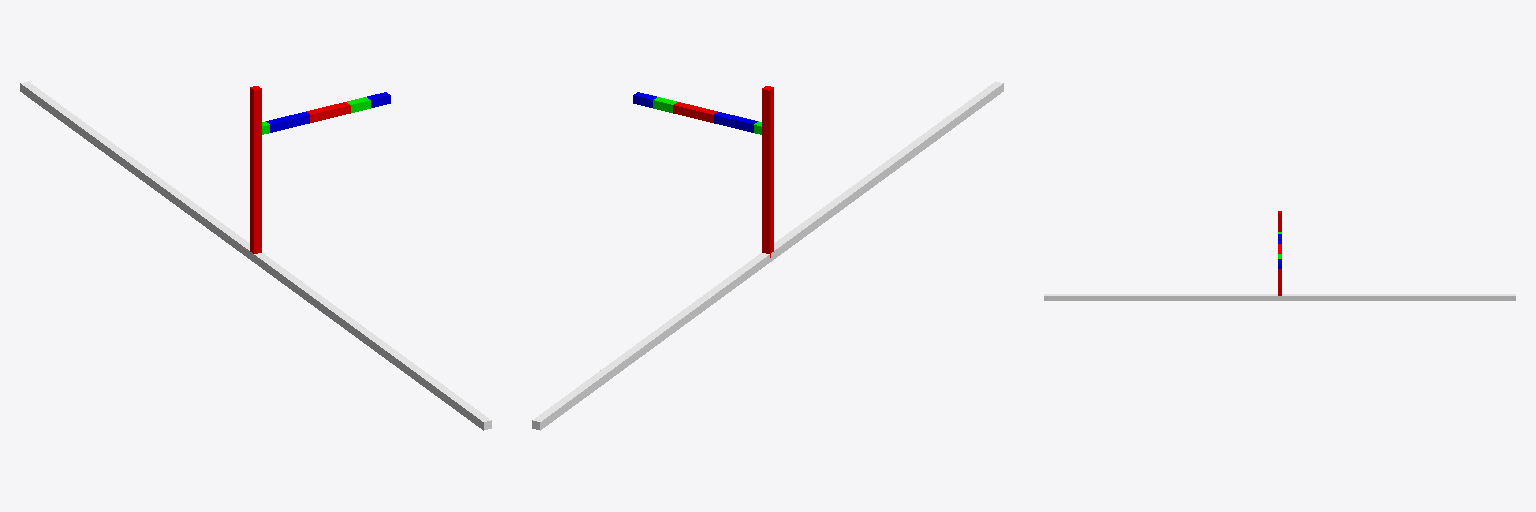
robot.urdf — arcsys2:
<?xml version="1.0" ?>
<!-- =================================================================================== -->
<!-- |    This document was autogenerated by xacro from urdf/arcsys2.xacro             | -->
<!-- |    EDITING THIS FILE BY HAND IS NOT RECOMMENDED                                 | -->
<!-- =================================================================================== -->
<robot name="arcsys2" xmlns:xacro="http://ros.org/wiki/xacro">
  <material name="white">
    <color rgba="1.0 1.0 1.0 1.0"/>
  </material>
  <material name="red">
    <color rgba="1.0 0.0 0.0 1.0"/>
  </material>
  <material name="green">
    <color rgba="0.0 1.0 0.0 1.0"/>
  </material>
  <material name="blue">
    <color rgba="0.0 0.0 1.0 1.0"/>
  </material>
  <!-- Property -->
  <!-- LINK and JOINT -->
  <link name="rail">
    <origin xyz="0 0 0"/>
    <visual>
      <geometry>
        <box size="0.1 10.0 0.1"/>
      </geometry>
      <material name="white"/>
    </visual>
    <collision>
      <geometry>
        <box size="0.1 10.0 0.1"/>
      </geometry>
    </collision>
  </link>
  <joint name="rail_to_shaft_joint" type="prismatic">
    <origin xyz="0 0 1.0"/>
    <parent link="rail"/>
    <child link="shaft"/>
    <axis xyz="0 1 0"/>
    <limit effort="1" lower="-5.0" upper="5.0" velocity="1"/>
  </joint>
  <transmission name="rail_to_shaft_transmission">
    <type>transmission_interface/SimpleTransmission</type>
    <actuator name="rail_to_shaft_actuator">
      <mechanicalReduction>1.0</mechanicalReduction>
      <hardwareInterface>hardware_interface/PositionJointInterface</hardwareInterface>
    </actuator>
    <joint name="rail_to_shaft_joint">
      <hardwareInterface>hardware_interface/PositionJointInterface</hardwareInterface>
    </joint>
  </transmission>
  <link name="shaft">
    <origin xyz="0 0 0"/>
    <visual>
      <geometry>
        <box size="0.1 0.1 2.0"/>
      </geometry>
      <material name="red"/>
    </visual>
    <collision>
      <geometry>
        <box size="0.1 0.1 2.0"/>
      </geometry>
    </collision>
  </link>
  <joint name="shaft_to_arm0_joint" type="prismatic">
    <origin xyz="0.05 0 0.5"/>
    <parent link="shaft"/>
    <child link="arm0"/>
    <axis xyz="0 0 1"/>
    <limit effort="1" lower="-0.5" upper="0.5" velocity="1"/>
  </joint>
  <transmission name="shaft_to_arm0_transmission">
    <type>transmission_interface/SimpleTransmission</type>
    <actuator name="shaft_to_arm0_actuator">
      <mechanicalReduction>1.0</mechanicalReduction>
      <hardwareInterface>hardware_interface/PositionJointInterface</hardwareInterface>
    </actuator>
    <joint name="shaft_to_arm0_joint">
      <hardwareInterface>hardware_interface/PositionJointInterface</hardwareInterface>
    </joint>
  </transmission>
  <link name="arm0">
    <visual>
      <origin xyz="0.05 0 0"/>
      <geometry>
        <box size="0.1 0.1 0.1"/>
      </geometry>
      <material name="green"/>
    </visual>
    <collision>
      <geometry>
        <box size="0.1 0.1 0.1"/>
      </geometry>
    </collision>
  </link>
  <joint name="arm0_to_arm1_joint" type="revolute">
    <origin xyz="0.1 0 0"/>
    <parent link="arm0"/>
    <child link="arm1"/>
    <axis xyz="0 0 1"/>
    <limit effort="1" lower="-1.57079632679" upper="1.57079632679" velocity="1"/>
  </joint>
  <transmission name="arm0_to_arm1_transmission">
    <type>transmission_interface/SimpleTransmission</type>
    <actuator name="arm0_to_arm1_actuator">
      <mechanicalReduction>1.0</mechanicalReduction>
      <hardwareInterface>hardware_interface/PositionJointInterface</hardwareInterface>
    </actuator>
    <joint name="arm0_to_arm1_joint">
      <hardwareInterface>hardware_interface/PositionJointInterface</hardwareInterface>
    </joint>
  </transmission>
  <link name="arm1">
    <visual>
      <origin xyz="0.25 0 0"/>
      <geometry>
        <box size="0.5 0.1 0.1"/>
      </geometry>
      <material name="blue"/>
    </visual>
    <collision>
      <geometry>
        <box size="0.5 0.1 0.1"/>
      </geometry>
    </collision>
  </link>
  <joint name="arm1_to_arm2_joint" type="revolute">
    <origin xyz="0.5 0 0"/>
    <parent link="arm1"/>
    <child link="arm2"/>
    <axis xyz="0 0 1"/>
    <limit effort="1" lower="-1.57079632679" upper="1.57079632679" velocity="1"/>
  </joint>
  <transmission name="arm1_to_arm2_transmission">
    <type>transmission_interface/SimpleTransmission</type>
    <actuator name="arm1_to_arm2_actuator">
      <mechanicalReduction>1.0</mechanicalReduction>
      <hardwareInterface>hardware_interface/PositionJointInterface</hardwareInterface>
    </actuator>
    <joint name="arm1_to_arm2_joint">
      <hardwareInterface>hardware_interface/PositionJointInterface</hardwareInterface>
    </joint>
  </transmission>
  <link name="arm2">
    <visual>
      <origin xyz="0.25 0 0"/>
      <geometry>
        <box size="0.5 0.1 0.1"/>
      </geometry>
      <material name="red"/>
    </visual>
    <collision>
      <geometry>
        <box size="0.5 0.1 0.1"/>
      </geometry>
    </collision>
  </link>
  <joint name="arm2_to_effector_base_joint" type="revolute">
    <origin xyz="0.5 0 0"/>
    <parent link="arm2"/>
    <child link="effector_base"/>
    <axis xyz="0 0 1"/>
    <limit effort="1" lower="-1.57079632679" upper="1.57079632679" velocity="1"/>
  </joint>
  <transmission name="arm2_to_effector_base_transmission">
    <type>transmission_interface/SimpleTransmission</type>
    <actuator name="arm2_to_effector_base_actuator">
      <mechanicalReduction>1.0</mechanicalReduction>
      <hardwareInterface>hardware_interface/PositionJointInterface</hardwareInterface>
    </actuator>
    <joint name="arm2_to_effector_base_joint">
      <hardwareInterface>hardware_interface/PositionJointInterface</hardwareInterface>
    </joint>
  </transmission>
  <link name="effector_base">
    <visual>
      <origin xyz="0.125 0 0"/>
      <geometry>
        <box size="0.25 0.1 0.1"/>
      </geometry>
      <material name="green"/>
    </visual>
    <collision>
      <geometry>
        <box size="0.25 0.1 0.1"/>
      </geometry>
    </collision>
  </link>
  <joint name="effector_base_to_effector_end_joint" type="revolute">
    <origin xyz="0.25 0 0"/>
    <parent link="effector_base"/>
    <child link="effector_end"/>
    <axis xyz="1 0 0"/>
    <limit effort="1" lower="-1.57079632679" upper="1.57079632679" velocity="1"/>
  </joint>
  <transmission name="effector_base_to_effector_end_transmission">
    <type>transmission_interface/SimpleTransmission</type>
    <actuator name="effector_base_to_effector_end_actuator">
      <mechanicalReduction>1.0</mechanicalReduction>
      <hardwareInterface>hardware_interface/PositionJointInterface</hardwareInterface>
    </actuator>
    <joint name="effector_base_to_effector_end_joint">
      <hardwareInterface>hardware_interface/PositionJointInterface</hardwareInterface>
    </joint>
  </transmission>
  <link name="effector_end">
    <visual>
      <origin xyz="0.125 0 0"/>
      <geometry>
        <box size="0.25 0.1 0.1"/>
      </geometry>
      <material name="blue"/>
    </visual>
    <collision>
      <geometry>
        <box size="0.25 0.1 0.1"/>
      </geometry>
    </collision>
  </link>
  <!-- Macro Definition -->
</robot>

--- Render facts (derived) ---
The picture shows the robot from 3 angles, left to right: view 1: azimuth 30°, elevation 25°; view 2: azimuth 150°, elevation 25°; view 3: azimuth 270°, elevation 25°; orthographic projection.
Robot: arcsys2 — 7 links, 6 joints (4 revolute, 2 prismatic); root link rail; default pose: all joints at 0.
Links seen in each view (by area): view 1: rail, shaft, arm2; view 2: rail, shaft, arm2; view 3: rail.
Link boxes in pixels (box(x1,y1,x2,y2)): rail: box(20, 81, 491, 430); shaft: box(250, 86, 261, 253); arm2: box(306, 102, 350, 122); rail: box(532, 81, 1003, 430); shaft: box(762, 86, 773, 257); arm2: box(673, 102, 717, 122); rail: box(1044, 294, 1515, 300).
Bounding box of the posed robot: 1.7 × 10 × 2.05 m (x, y, z).
Geometry: primitives only (box / cylinder / sphere), no mesh files.